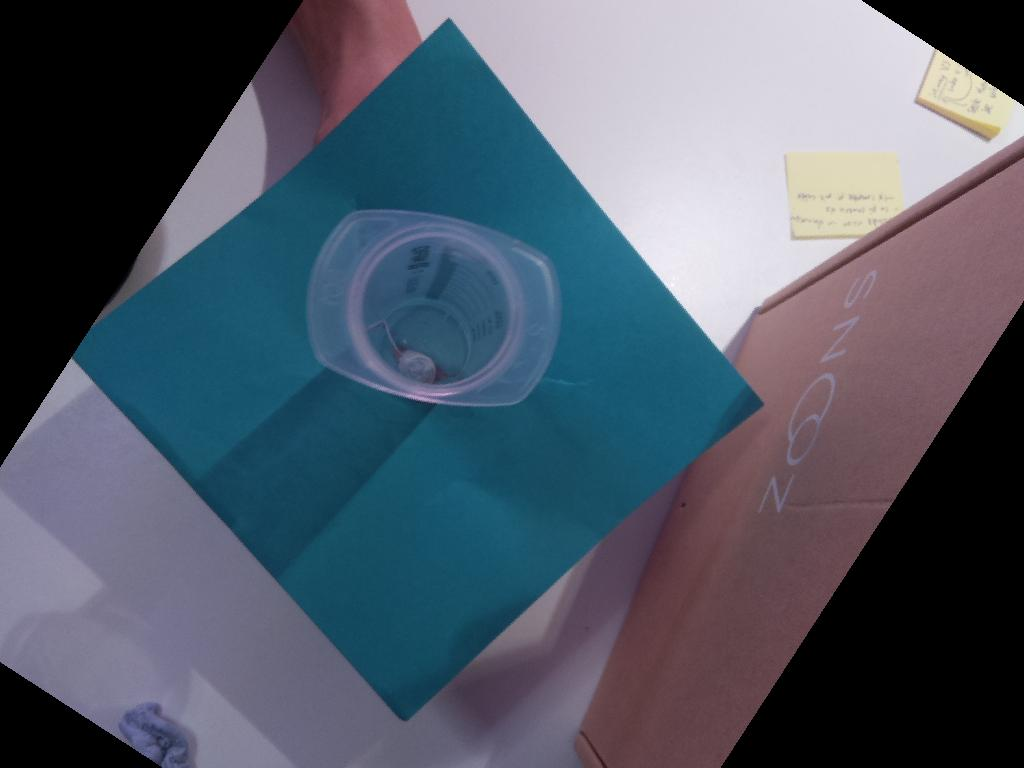clean: (306, 208, 564, 411)
